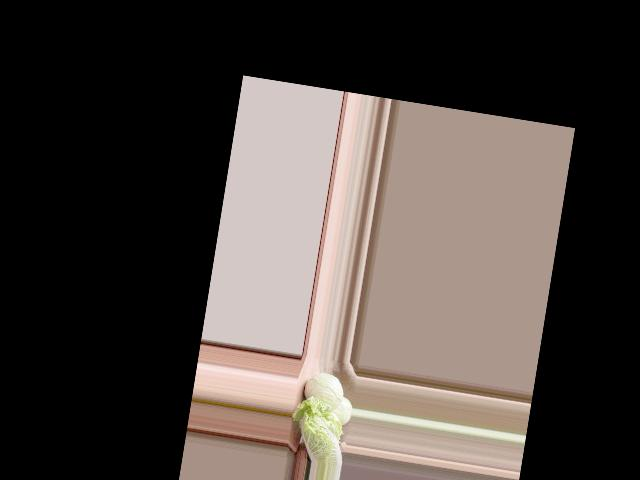lettuce: (285, 393, 349, 465)
